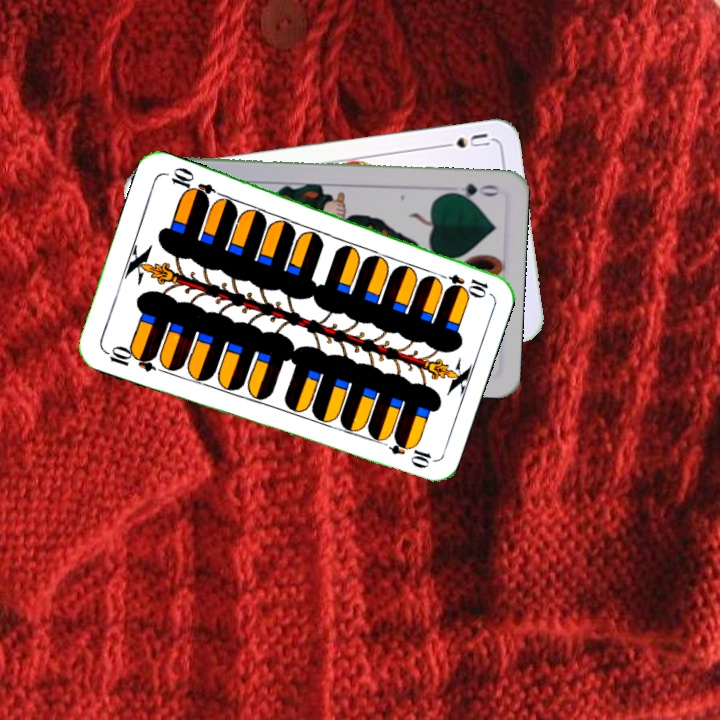E10: (100, 341, 159, 375), (432, 268, 491, 298)
GO: (443, 179, 503, 202)
SU: (434, 129, 493, 154)
